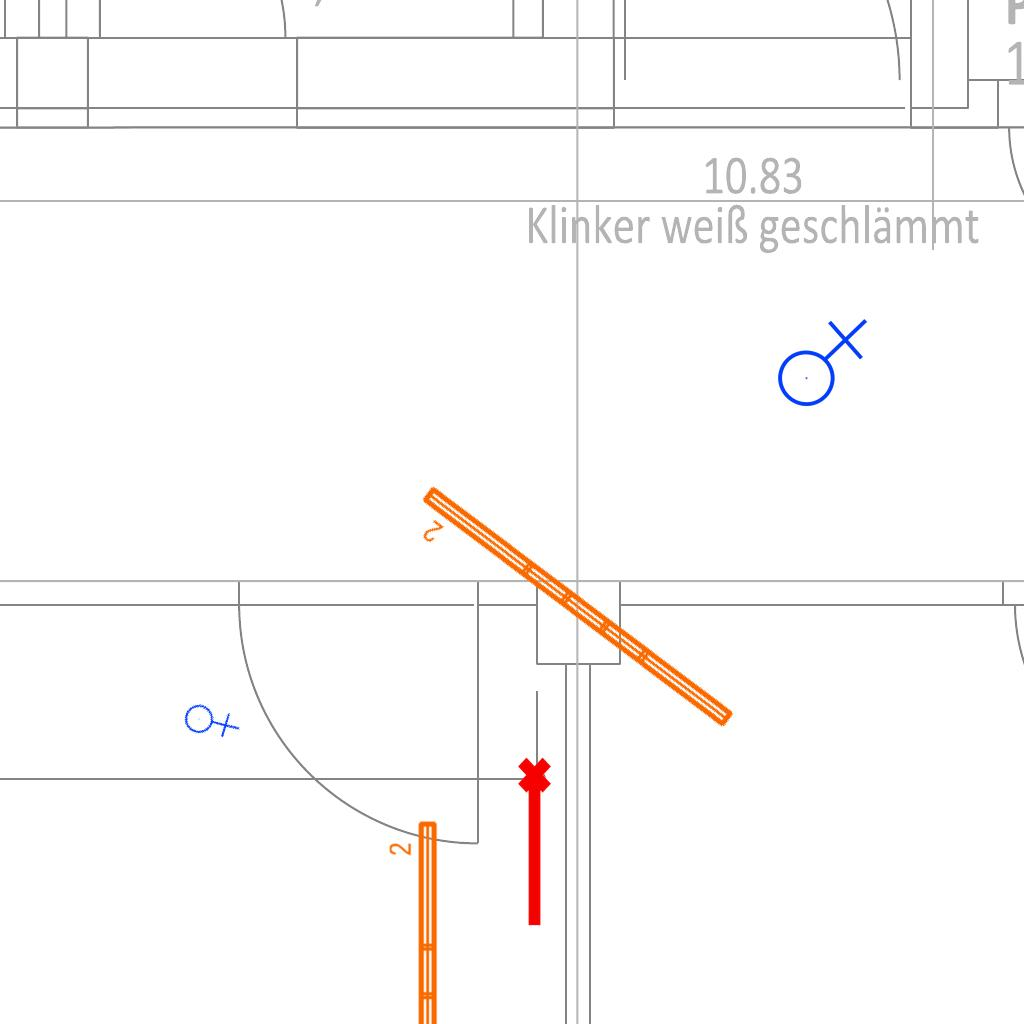ASR_Ansaugoeffnung: (514, 755, 560, 931)
Ambulanz_Pendelleuchte_LED: (399, 478, 742, 756), (387, 817, 443, 1024)
Elektroanschluss_allgemein_230V_Geraeteanschlussdose_230V: (769, 314, 868, 408), (176, 686, 243, 753)
